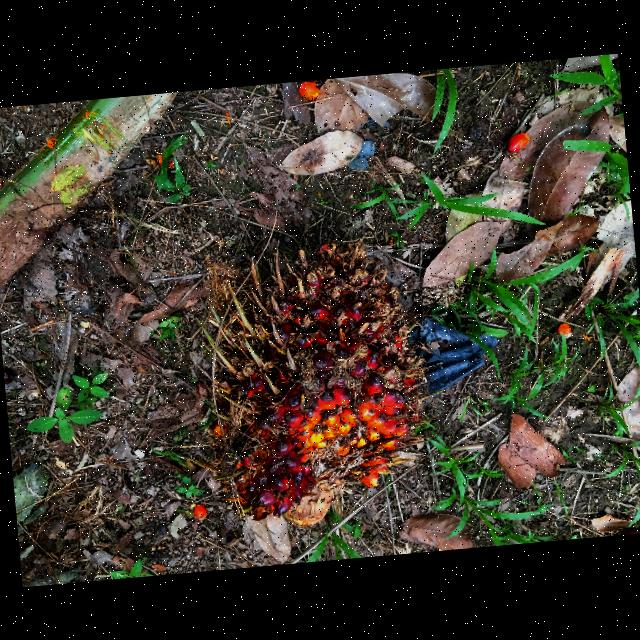Overripe: (210, 264, 425, 525)
